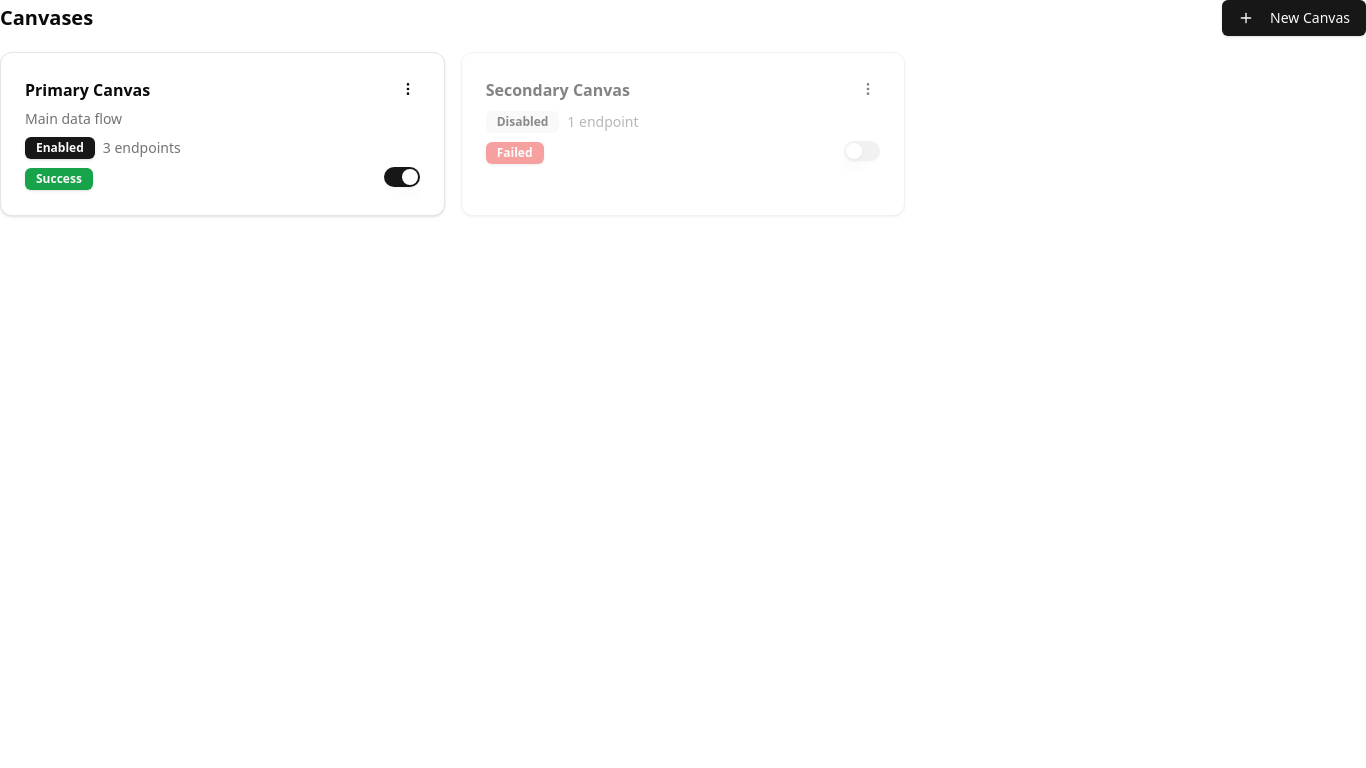
Test case: CanvasGrid — MC-09: Delete confirmation with impact summary › opens delete dialog with endpoint and mapping counts when Delete Canvas is clicked
The image size is (1366, 768).
Click the button named "Canvas options" in the row of "Primary Canvas" at (408, 89), box [396,77,420,101]
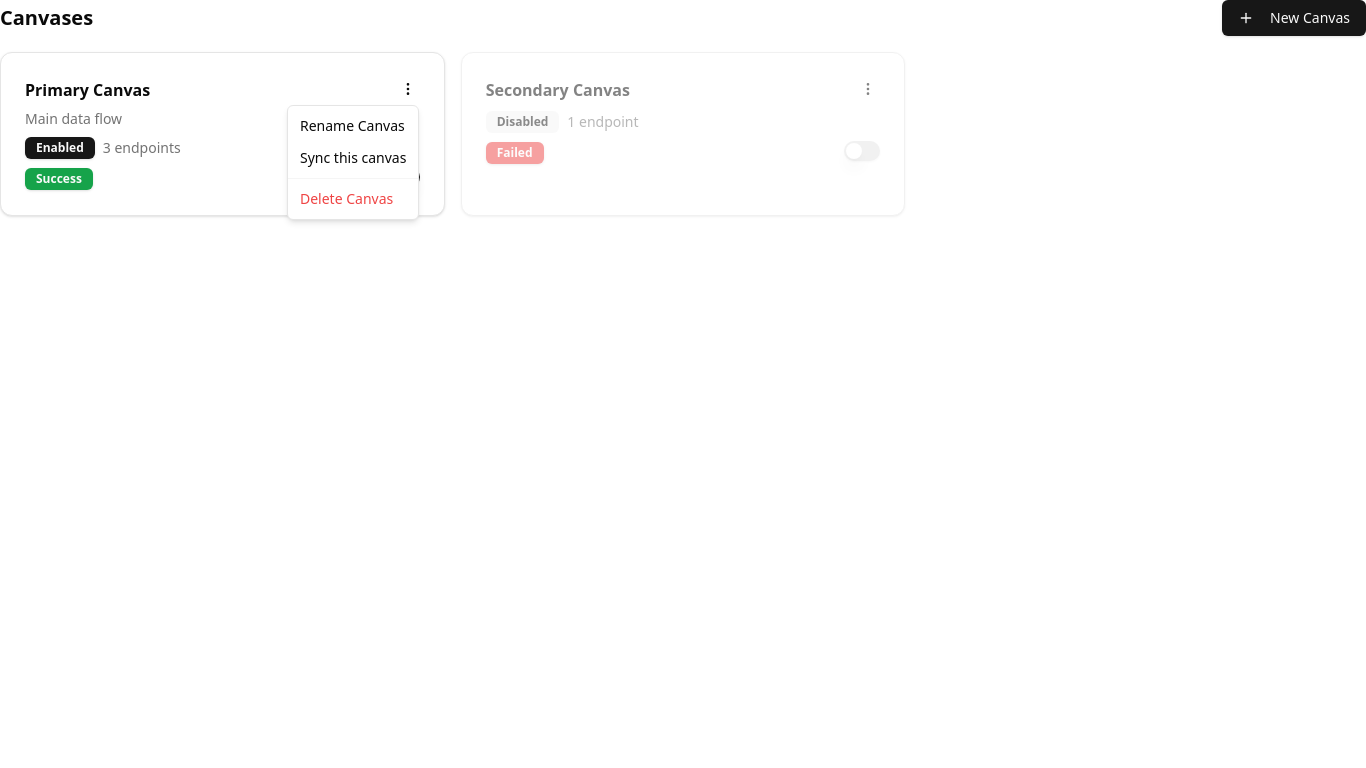
Now the menu item "Delete Canvas" is shown
Click the menu item "Delete Canvas" at (347, 198), box [300,189,393,208]
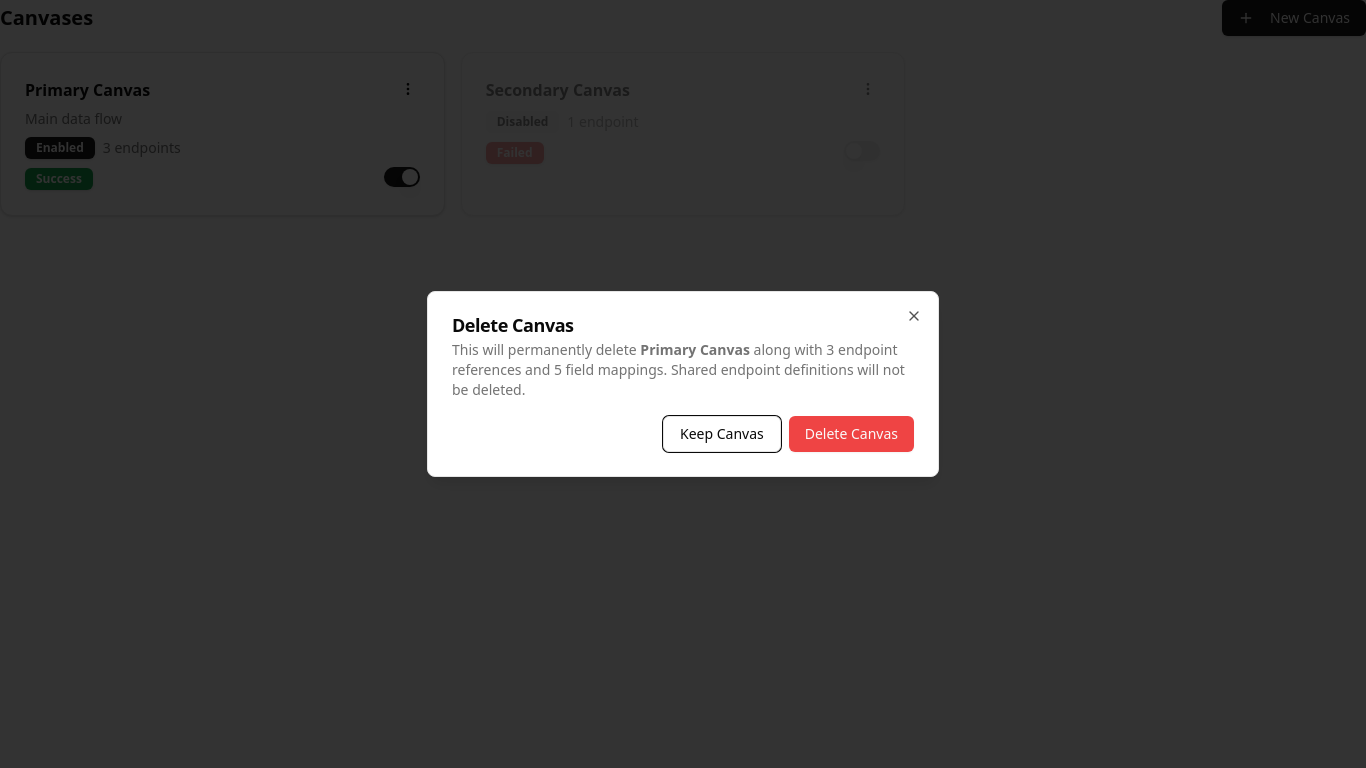
Now the text "5 field mappings" is shown, box [452,340,914,400]
